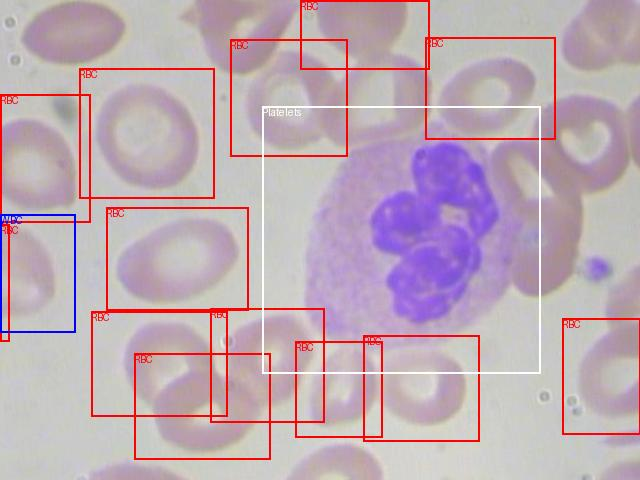Platelets: (262, 106, 540, 373)
RBC: (79, 68, 214, 198), (106, 207, 248, 310), (134, 353, 270, 459), (91, 311, 227, 416), (230, 39, 347, 156), (425, 37, 555, 139), (210, 308, 324, 422), (363, 335, 479, 441), (0, 94, 90, 222), (562, 318, 640, 434), (300, 0, 429, 69), (295, 341, 382, 437), (0, 224, 9, 341)
WBC: (0, 214, 75, 332)
